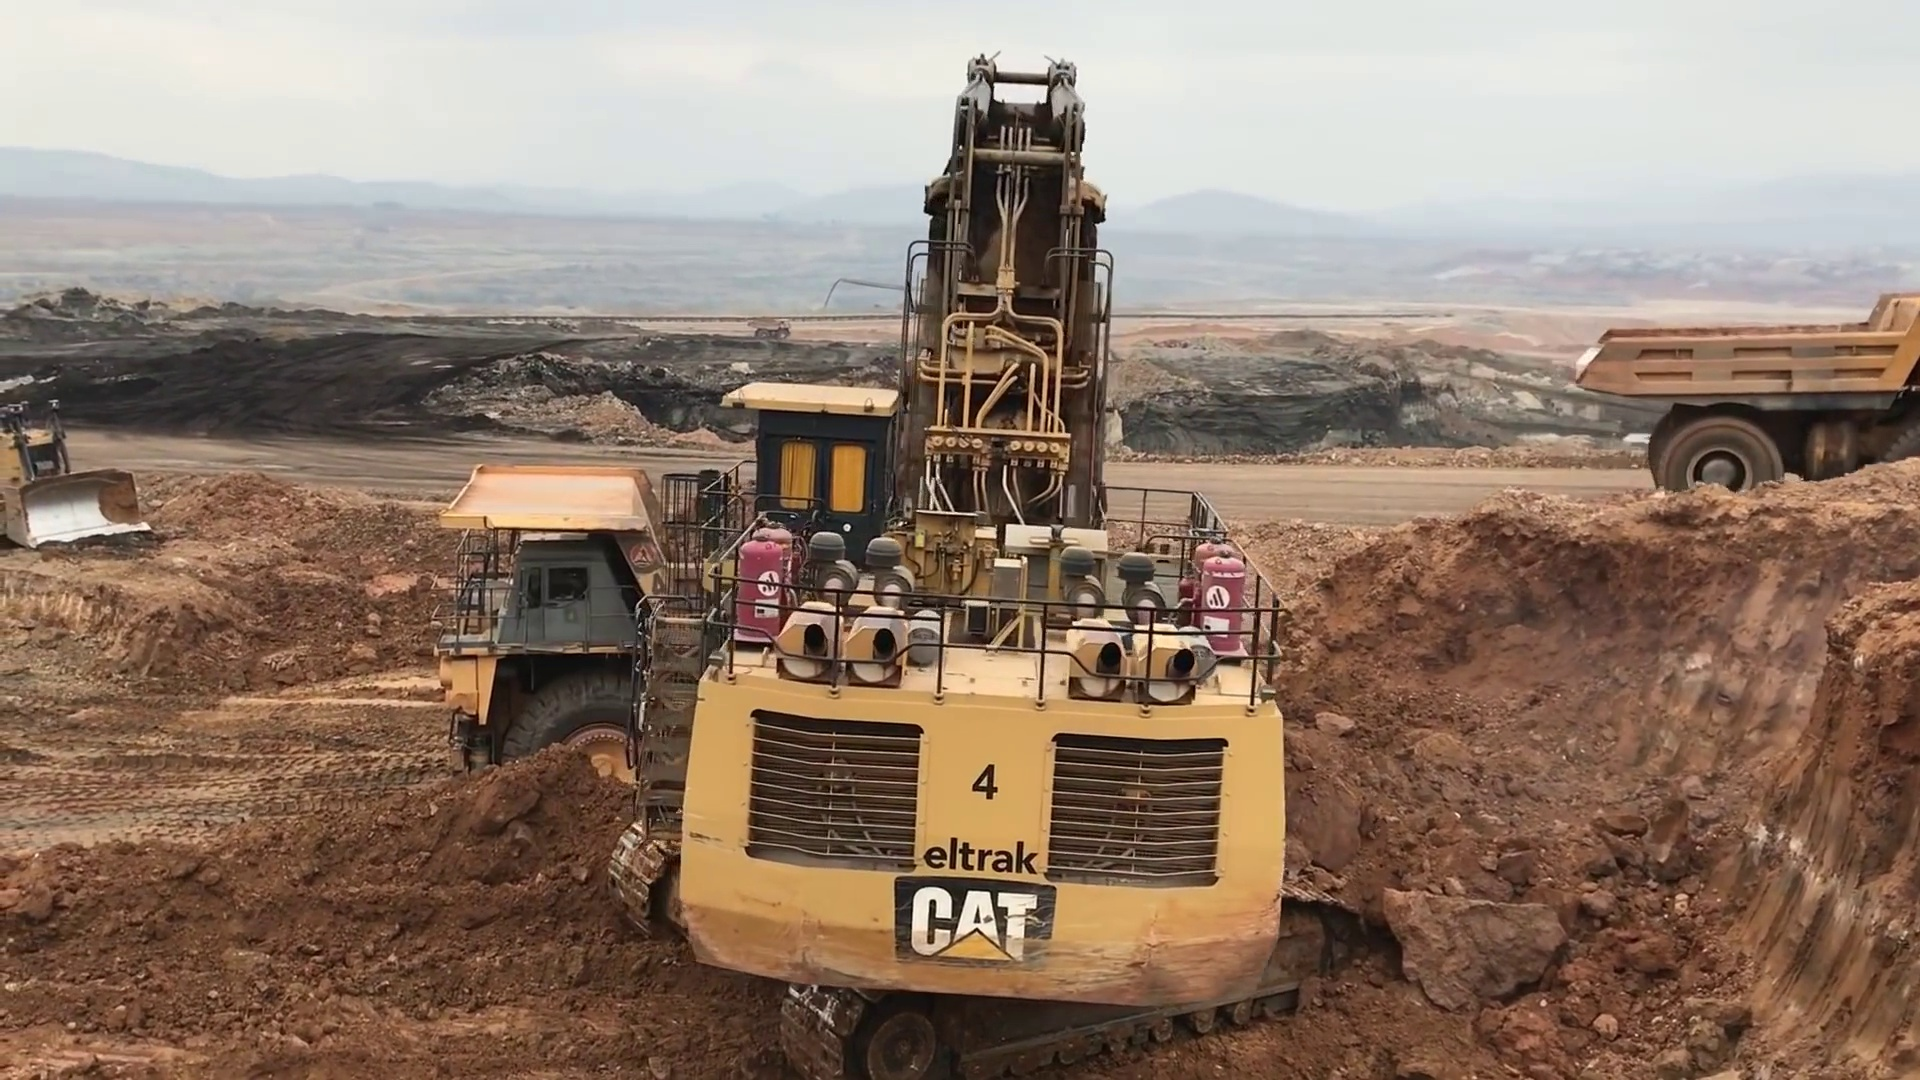dumper: (1571, 287, 1920, 502)
excavator: (436, 49, 1370, 1076), (3, 373, 152, 550)
